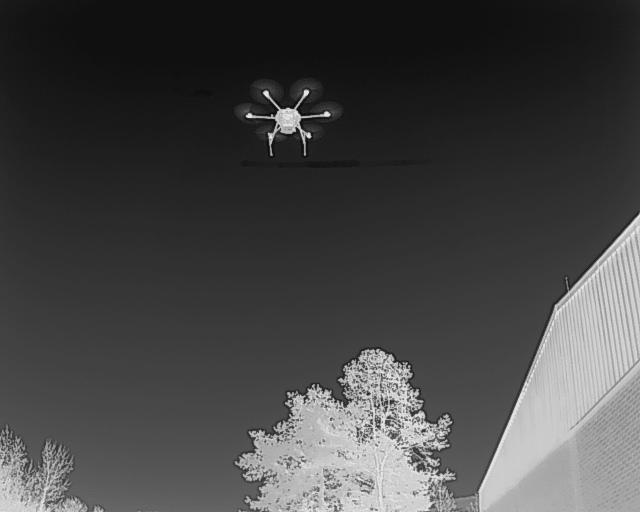drone: (231, 70, 346, 164)
